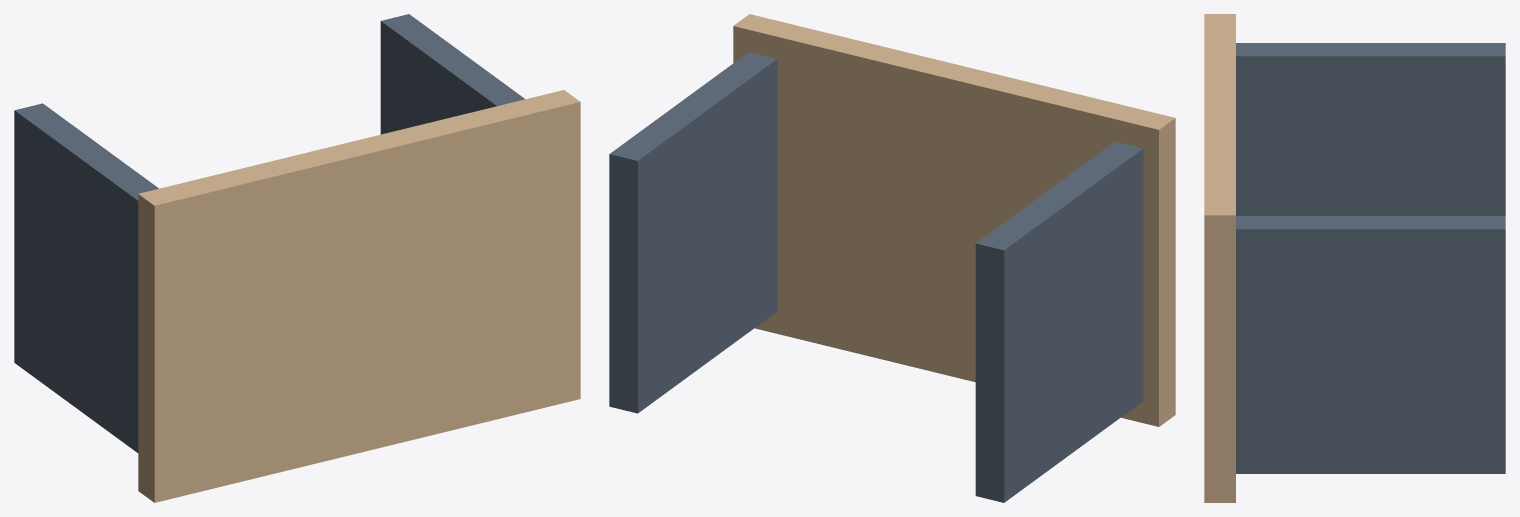
File: table.glb
The picture shows the model from 3 angles, left to right: view 1: azimuth 30°, elevation 25°; view 2: azimuth 150°, elevation 25°; view 3: azimuth 270°, elevation 25°; orthographic projection. The views are drawn at different scales.
Parts seen in each view (by area): view 1: top_0, leg_1, leg_2; view 2: top_0, leg_1, leg_2; view 3: leg_2, leg_1, top_0.
Boxes of the visible parts, <box> form: top_0: <box>138,90,580,502</box>; leg_1: <box>14,103,158,452</box>; leg_2: <box>380,14,525,134</box>; top_0: <box>733,14,1175,426</box>; leg_1: <box>975,141,1143,502</box>; leg_2: <box>609,52,777,413</box>; leg_2: <box>1236,216,1505,473</box>; leg_1: <box>1236,43,1505,215</box>; top_0: <box>1204,14,1235,502</box>.
Bounding box in the file's own units: 1.2 × 0.8 × 0.76.
